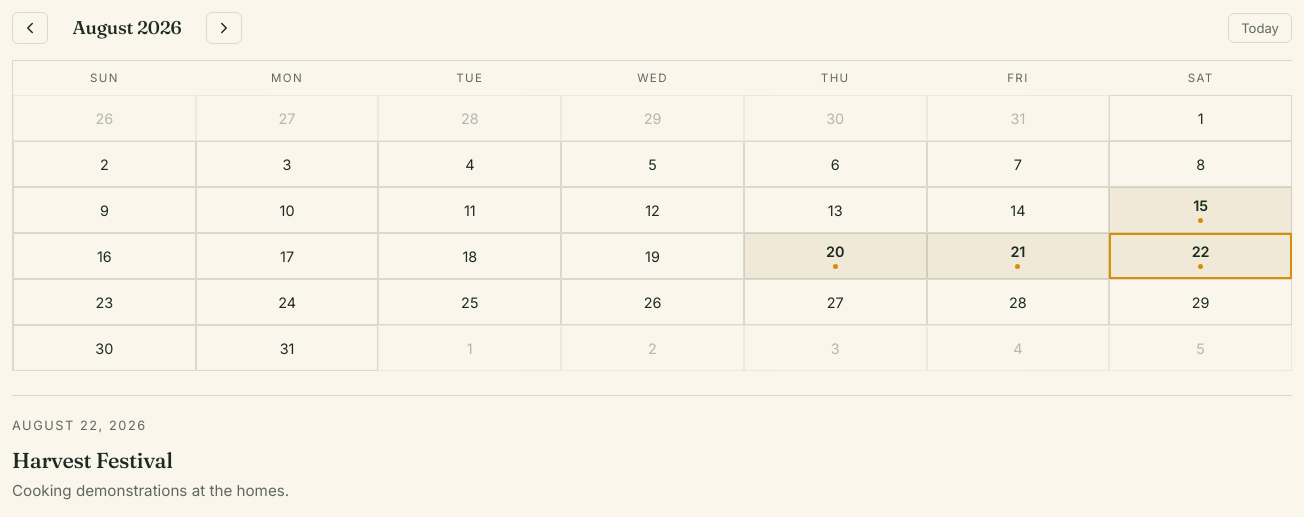
it: EventsCalendar › opens the first upcoming month and expands a day when clicked
The width and height of the screenshot is (1304, 517).
Check: the heading "August 2026" is shown, box [72,16,181,39]
Click the button named "August 20, 2026" at (835, 256), box [744,233,926,279]
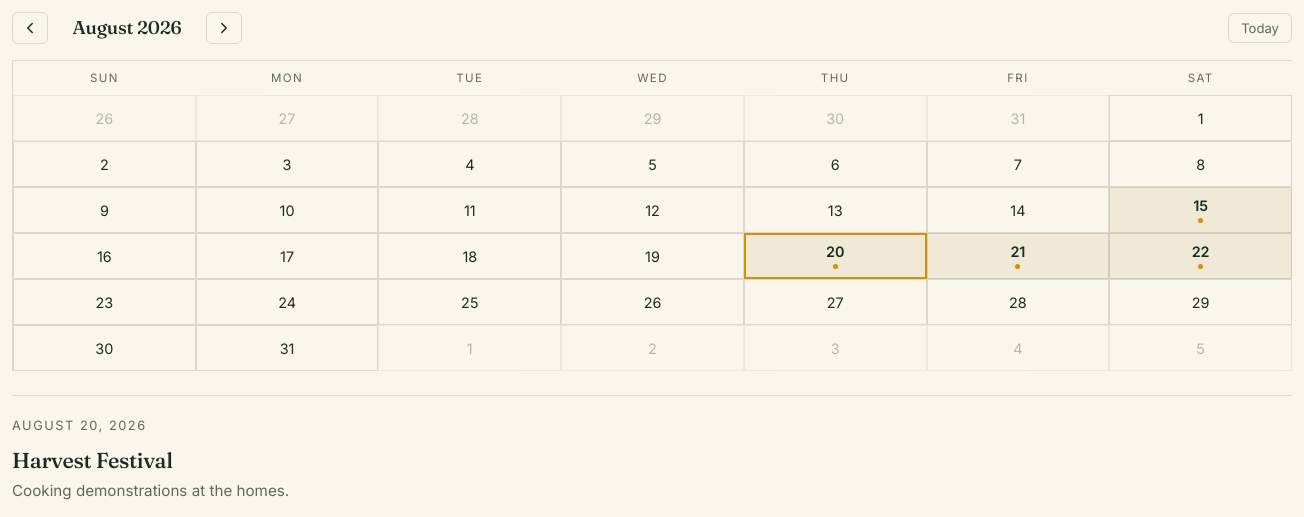
Check: the heading "Harvest Festival" is shown, box [12,447,173,474]
Check: the text "August 20, 2026" is shown, box [12,418,147,433]
